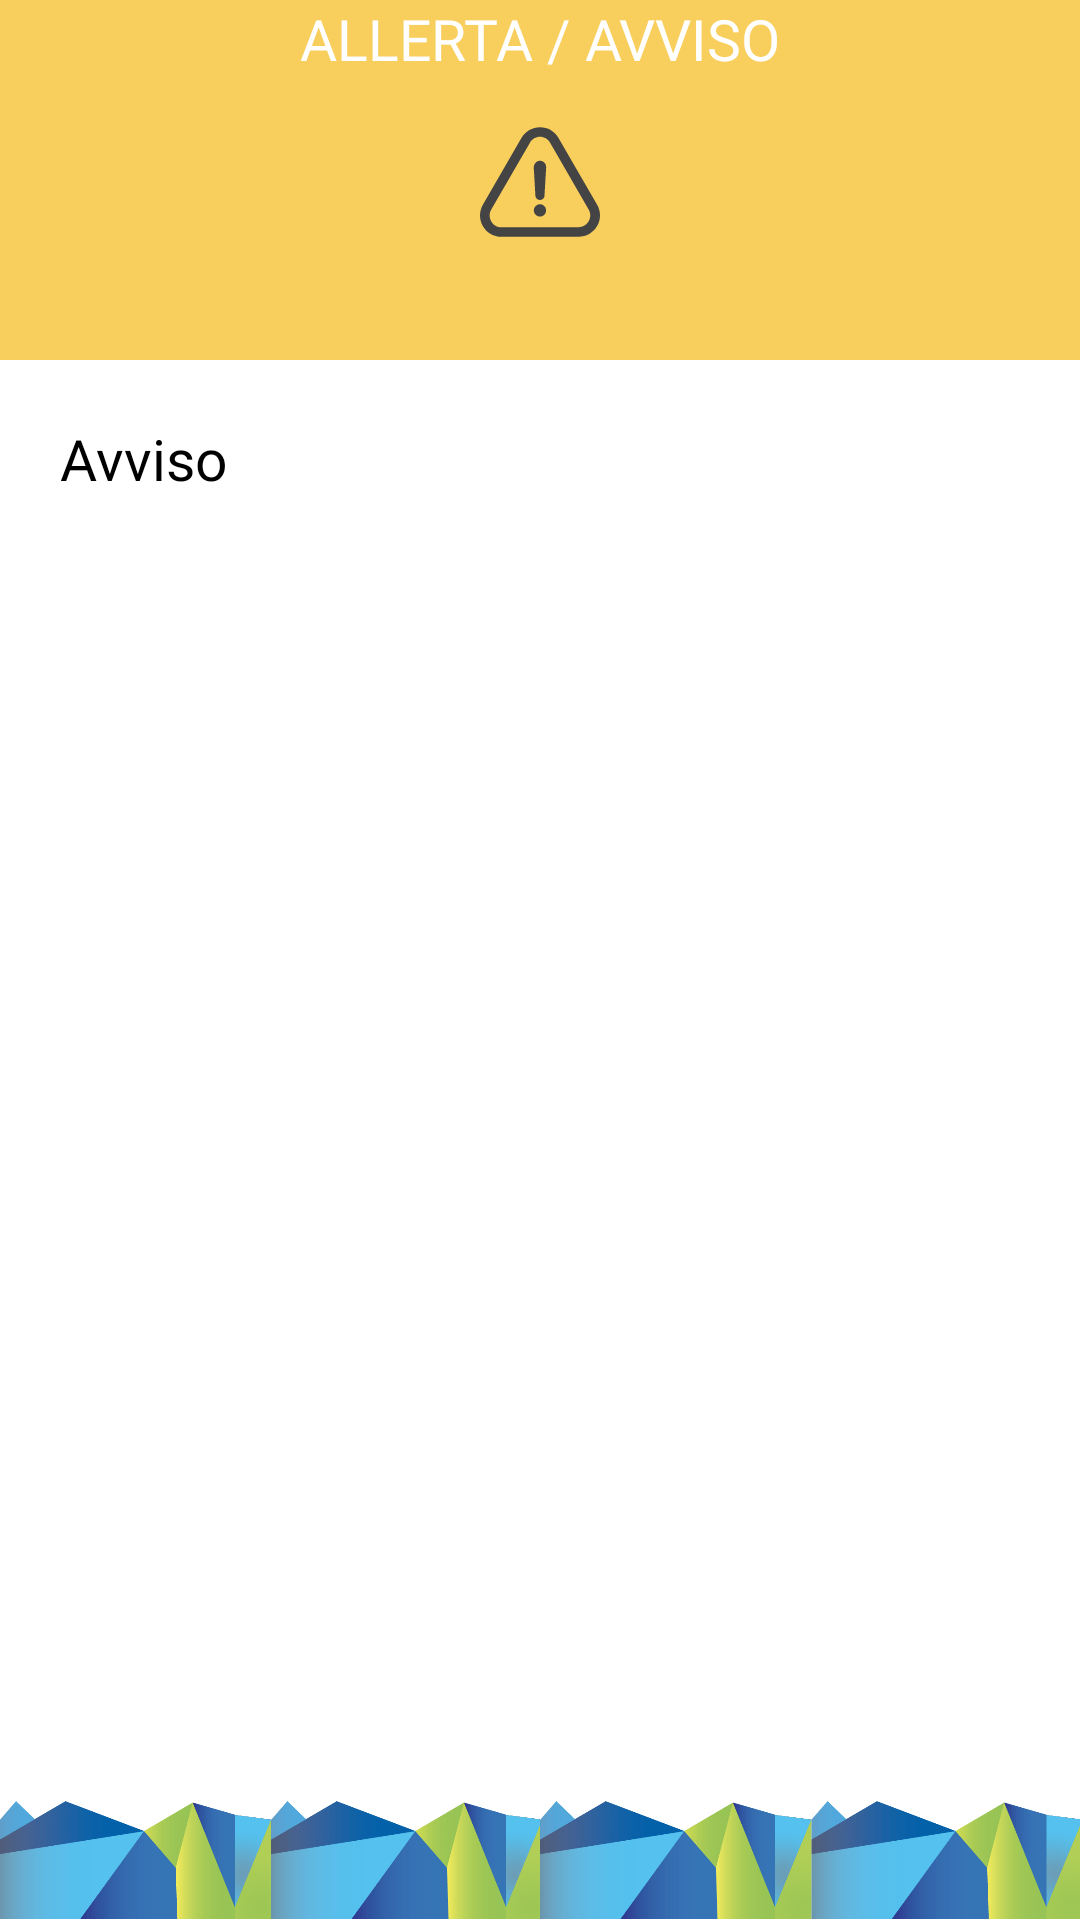

Where icons sit on this 1080*1920 app screen, as {"left": x1, "top": y1, "right": x2, "bottom": y2}:
warning: {"left": 480, "top": 127, "right": 600, "bottom": 237}
